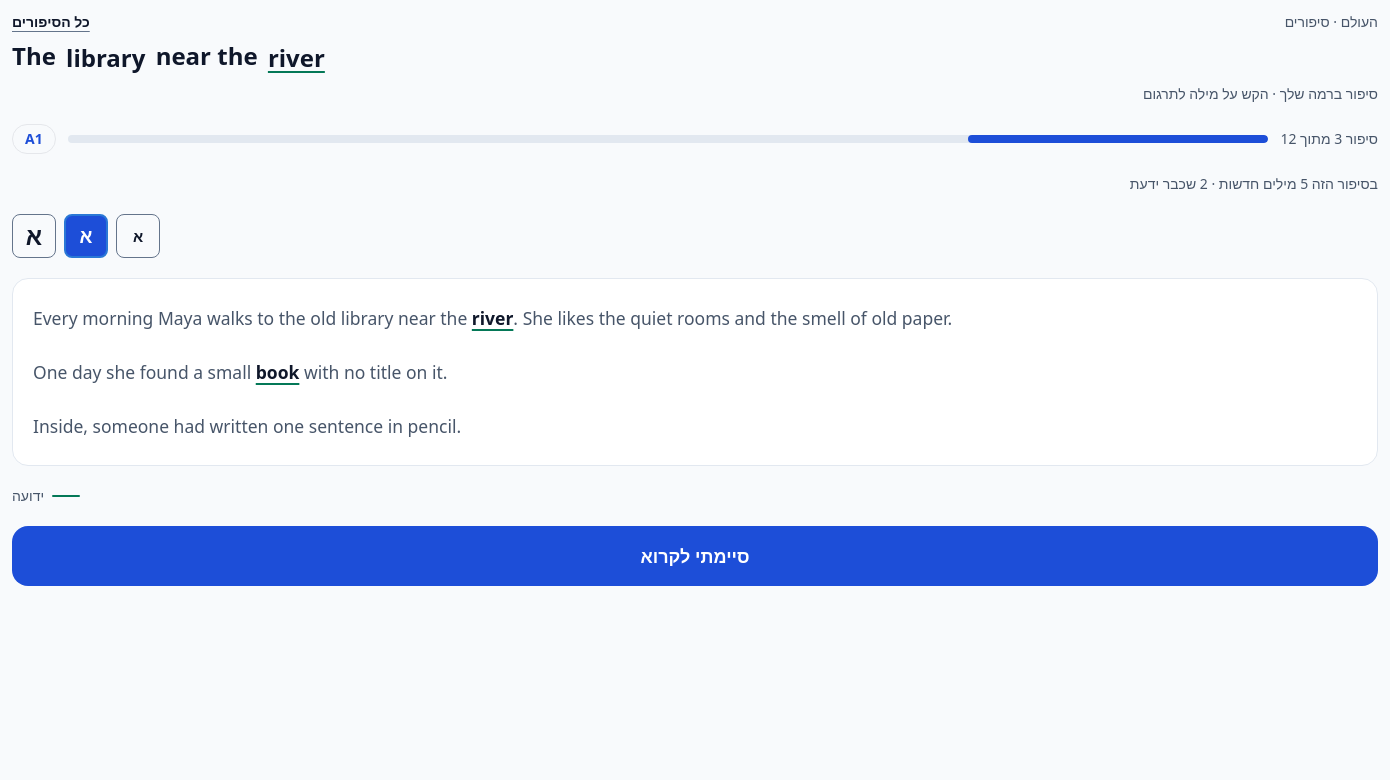
it: T-232 — the tap stops measuring the paragraph › `36 § 3.4` — מגע בטווח של שני יעדים מציג את שניהם, ⛔ ולא בוחר אחד
The width and height of the screenshot is (1390, 780).
Expected: the button "river" in the row of "likes" is shown, [464,291,521,345]
Click the button "library" in the row of "to": coordinates (367, 318) [333,291,401,345]
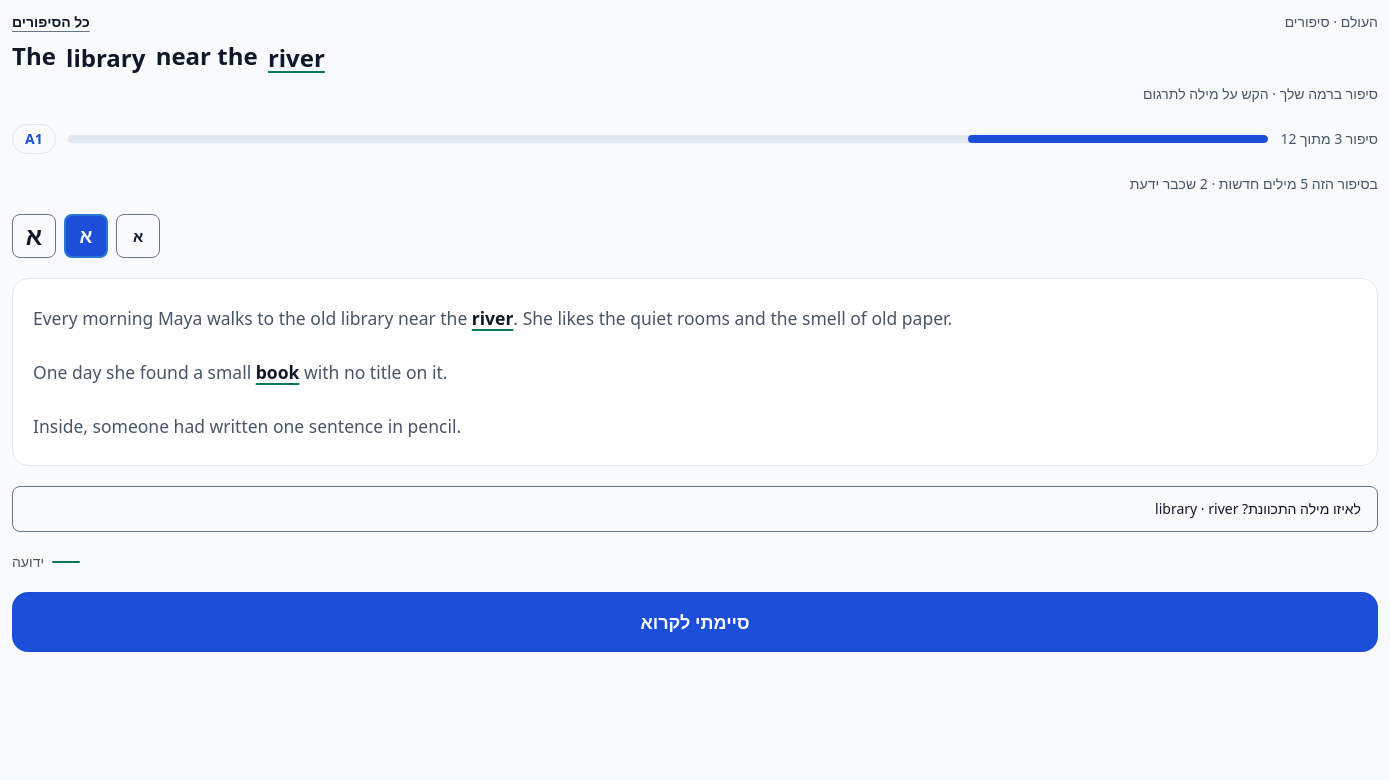
Expected: the text "לאיזו מילה התכוונת? library · river" is shown, [12,486,1378,532]
